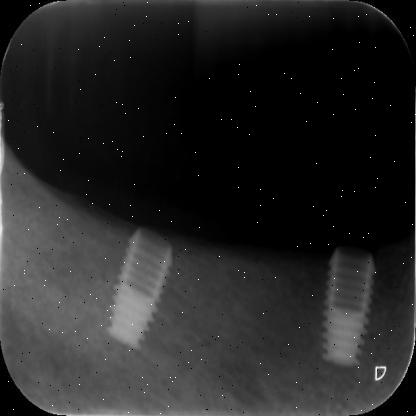Bicon: (107, 220, 174, 353), (319, 243, 380, 373)
